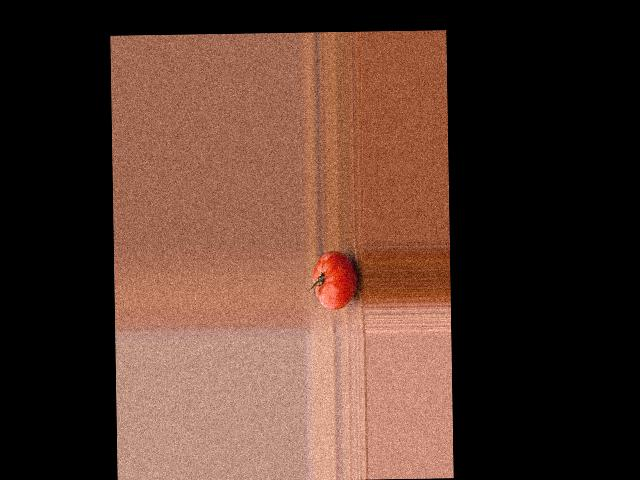tomato: (312, 251, 358, 311)
